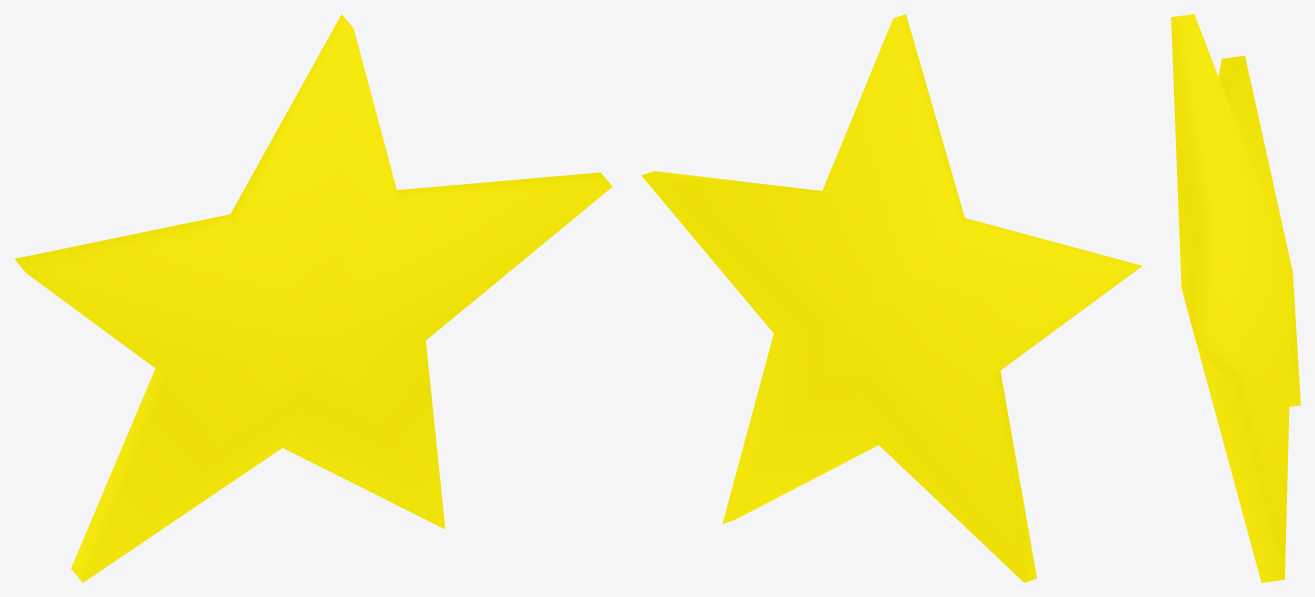
The model's file is yellow star.glb.
3 views of the same model, side by side, from view 1: azimuth 30°, elevation 25°; view 2: azimuth 150°, elevation 25°; view 3: azimuth 270°, elevation 25° (orthographic). The views are drawn at different scales.
Visible parts, largest first — view 1: Circle; view 2: Circle; view 3: Circle.
Part boxes in pixels (x1,y1,x2,y2): Circle: (14,14,612,582); Circle: (641,14,1142,582); Circle: (1171,14,1300,582).
Bounding box in the file's own units: 1.9 × 1.83 × 0.4241.
